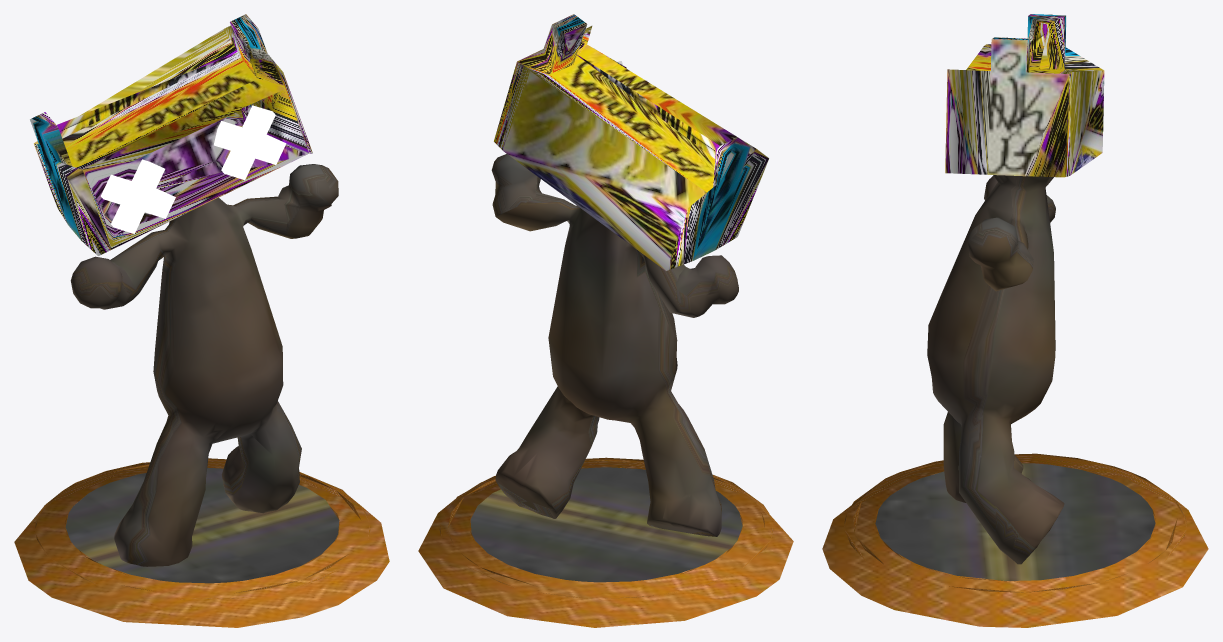
3 views of the same model, side by side, from view 1: azimuth 30°, elevation 25°; view 2: azimuth 150°, elevation 25°; view 3: azimuth 270°, elevation 25° (orthographic). The views are drawn at different scales.
Bounding box in the file's own units: 1.44 × 2.19 × 1.45.
Materials: 5 (4 with a texture image).
